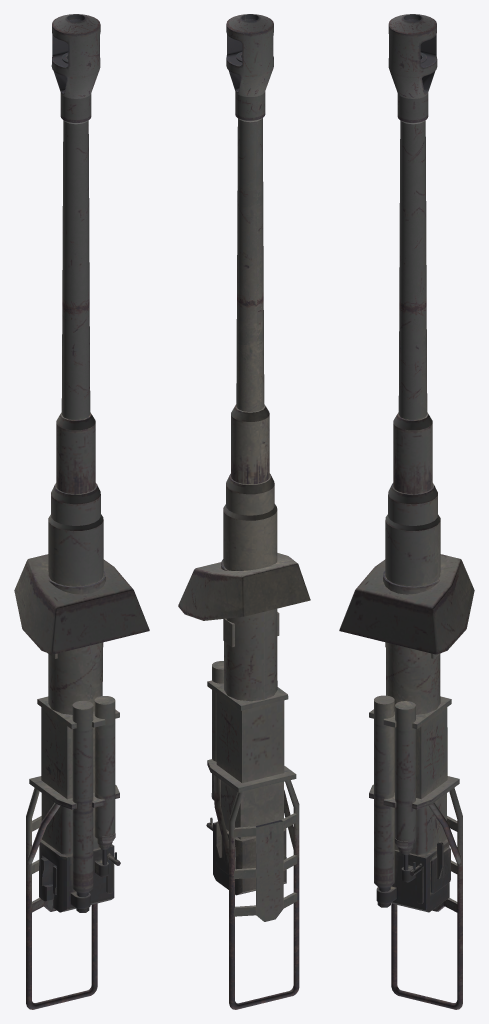
Rendered from Gun_01.glb.
3 renders of one model, left to right at view 1: azimuth 30°, elevation 25°; view 2: azimuth 210°, elevation 25°; view 3: azimuth 330°, elevation 25°, orthographic. The views are drawn at different scales.
Parts seen in each view (by area): view 1: set_0_group_0; view 2: set_0_group_0; view 3: set_0_group_0.
Part boxes in pixels (box(x1,y1,x2,y2)): set_0_group_0: box(14, 14, 149, 1009); set_0_group_0: box(178, 14, 310, 1009); set_0_group_0: box(339, 14, 474, 1009).
Size of the model in its own units: 0.7002 by 6.56 by 0.6314.
1 material, 1 textured.
